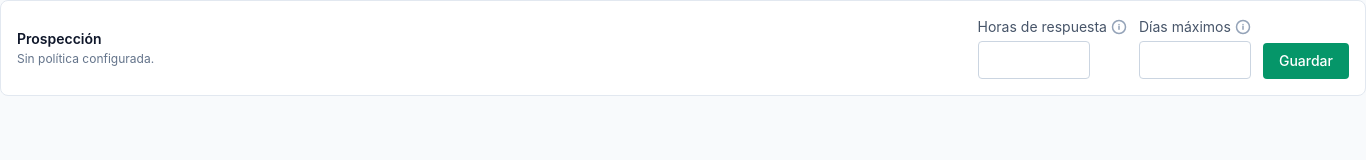
Test case: SlaSettings › valida las horas de respuesta no negativas
Type "-1" into the number field labelled "Horas de respuesta" at (1034, 60), box [978,41,1090,79]
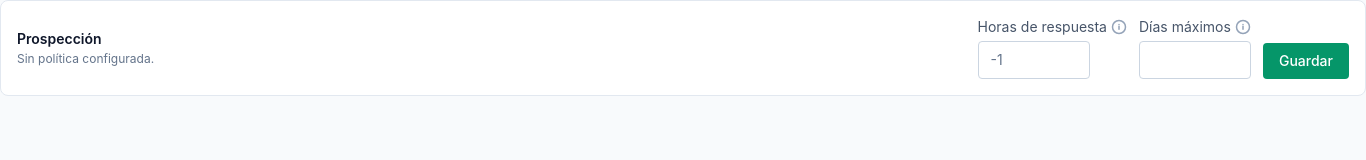
Click the button "Guardar" at (1306, 61), box [1263,43,1349,79]
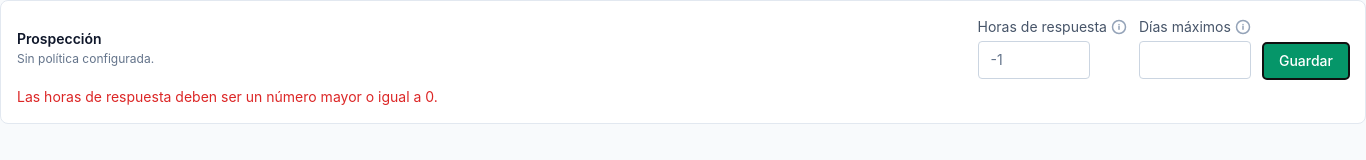
Result: the text "Las horas de respuesta deben ser un número mayor o igual a 0." is shown at [17,88,438,105]
